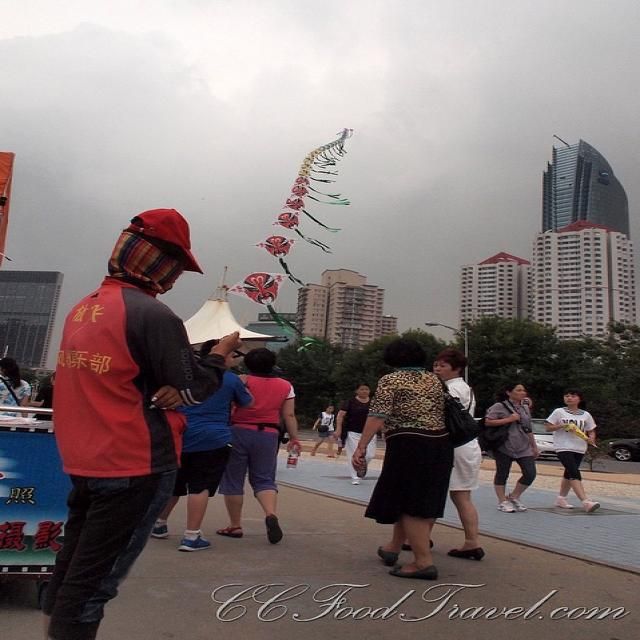Vehicle: (532, 418, 557, 458), (608, 438, 640, 461)
